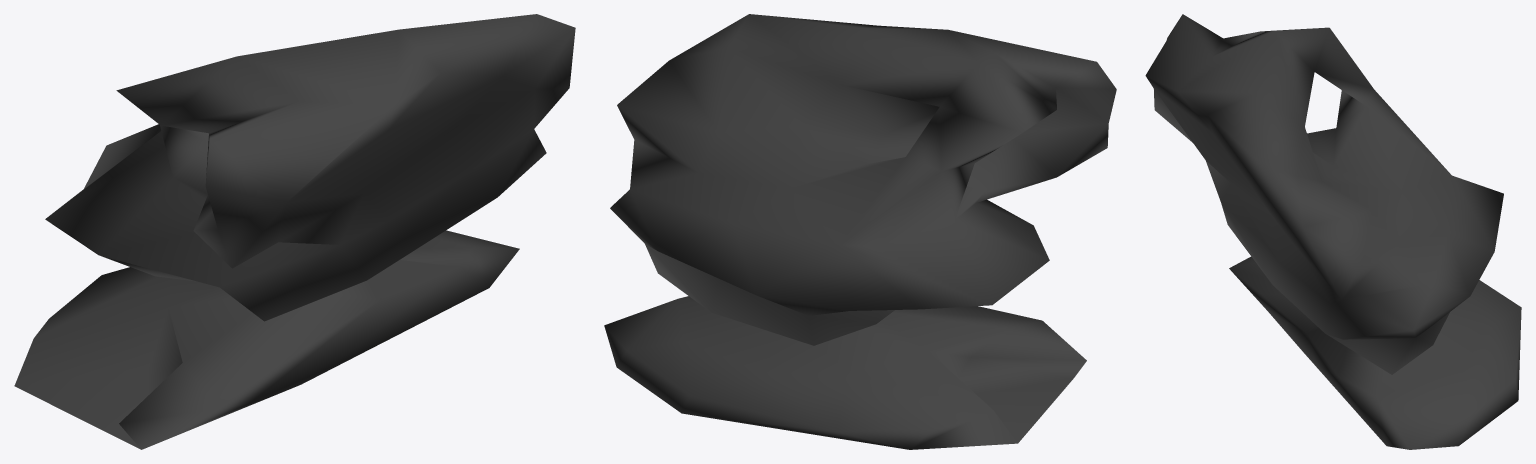
File: strata-0.glb
3 views of the same model, side by side, from view 1: azimuth 30°, elevation 25°; view 2: azimuth 150°, elevation 25°; view 3: azimuth 270°, elevation 25° (orthographic). The views are drawn at different scales.
Parts seen in each view (by area): view 1: geometry_0; view 2: geometry_0; view 3: geometry_0.
Part boxes in pixels (x1,y1,x2,y2): geometry_0: (14,14,575,449); geometry_0: (604,14,1116,449); geometry_0: (1145,14,1521,449).
Bounding box in the file's own units: 1.5 × 1 × 1.18.
Materials: 1 (1 with a texture image).
